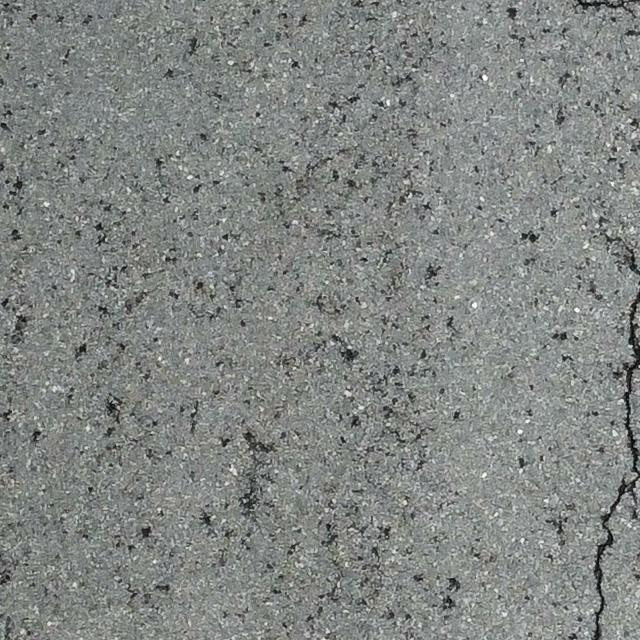LongitudinalCrack: (590, 246, 640, 640)
